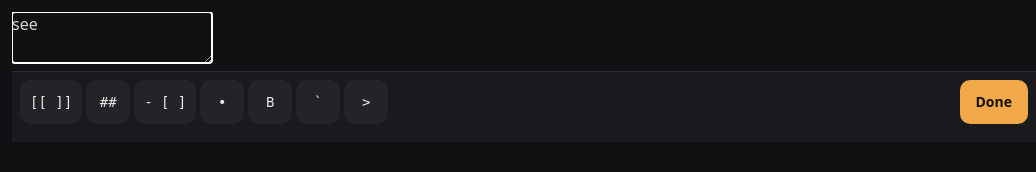
Scenario: the Markdown toolbar › Wiki link without a selection inserts the pair with the caret inside
Click the button named "Wiki link".
click(51, 102)  # box x1=20 y1=80 x2=82 y2=124
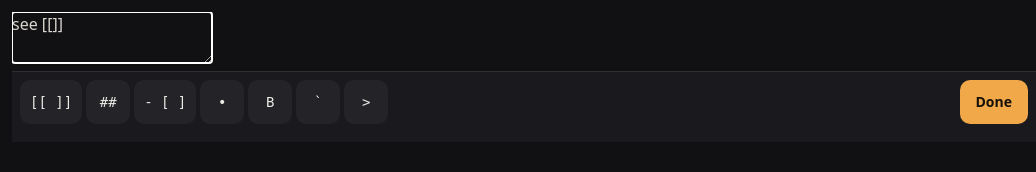
Result: the text box named "Markdown source" holds "see [ []]" at x1=12 y1=12 x2=212 y2=63
